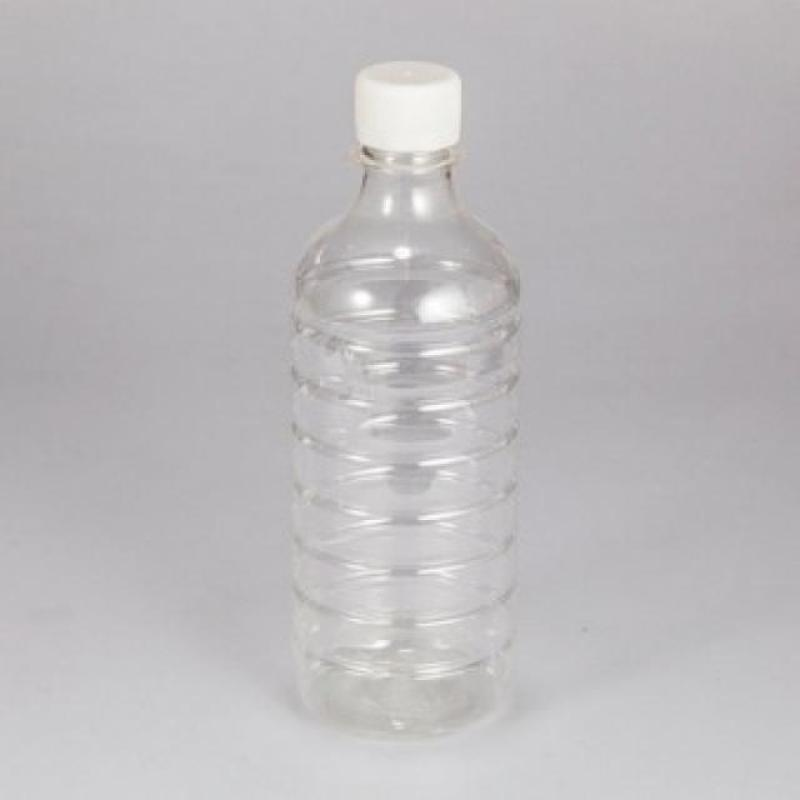botella: (288, 61, 530, 744)
